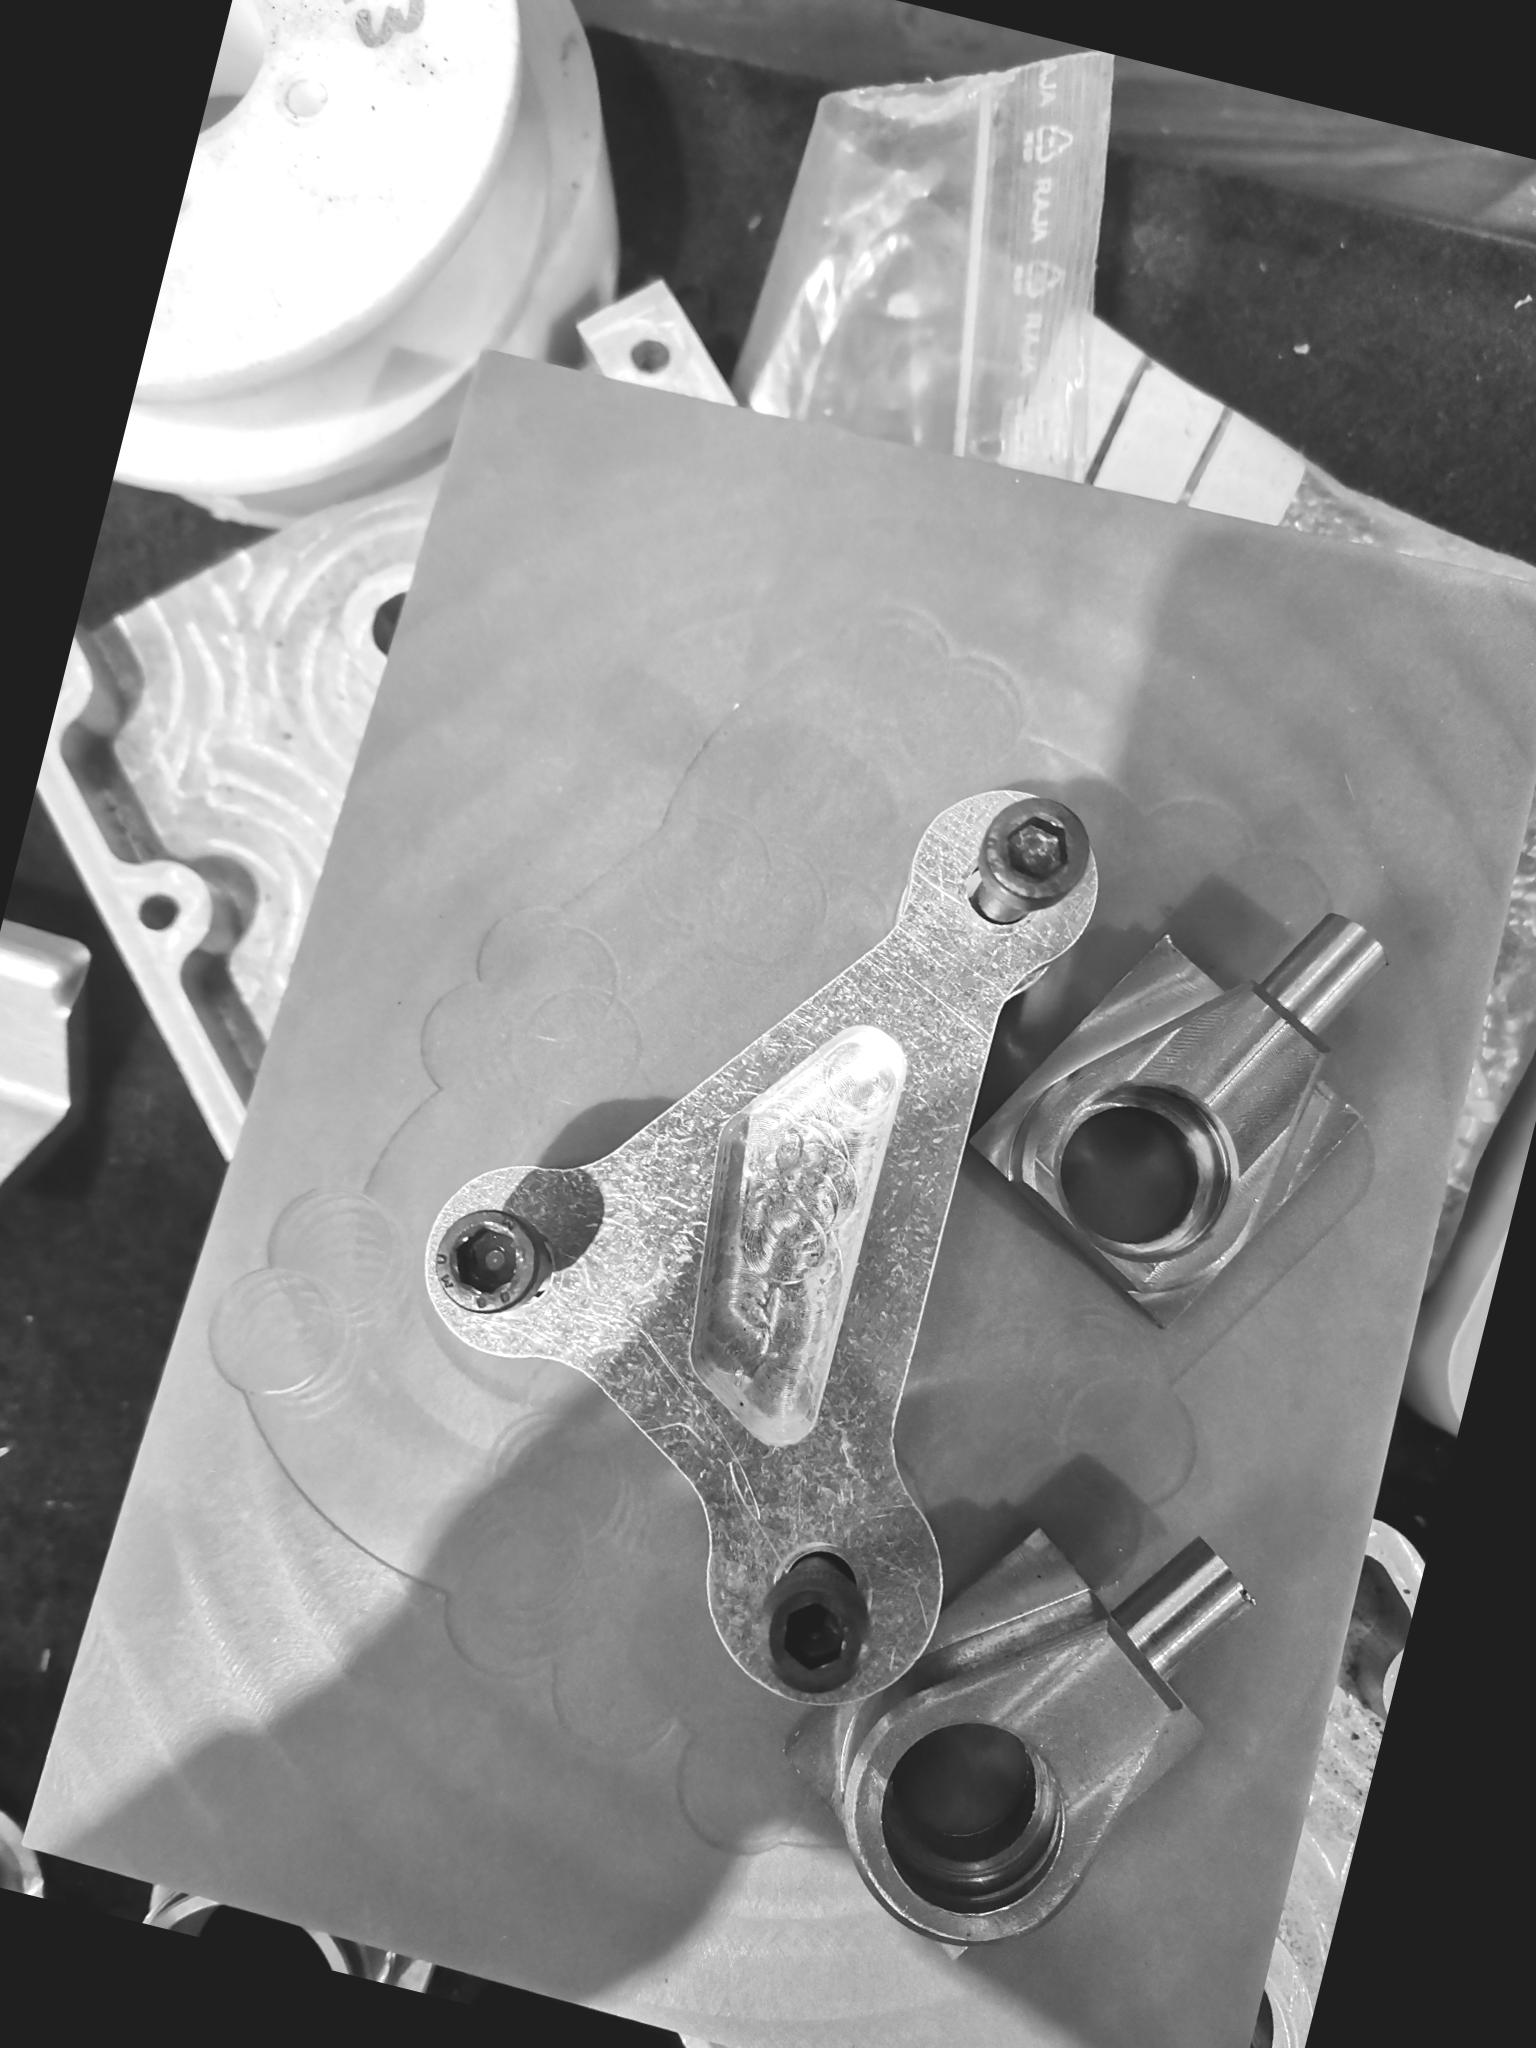allen: (736, 1561, 894, 1717), (408, 1184, 561, 1334), (965, 779, 1115, 924)
